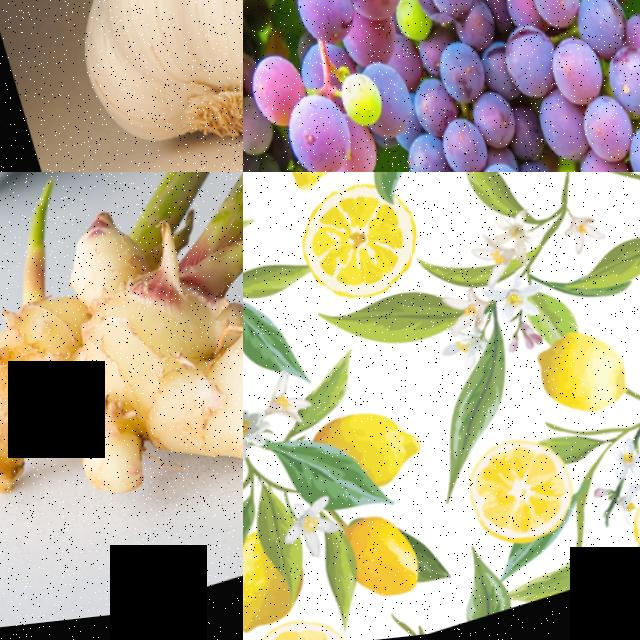garlic: (0, 0, 243, 133)
ginger: (0, 203, 243, 583)
grapes: (339, 0, 576, 172), (462, 0, 640, 172), (243, 0, 411, 172)
lemon: (282, 179, 430, 320), (443, 437, 575, 568), (522, 332, 626, 436), (338, 400, 423, 498), (243, 560, 293, 638), (604, 475, 640, 582), (252, 172, 367, 205), (243, 607, 340, 640)
